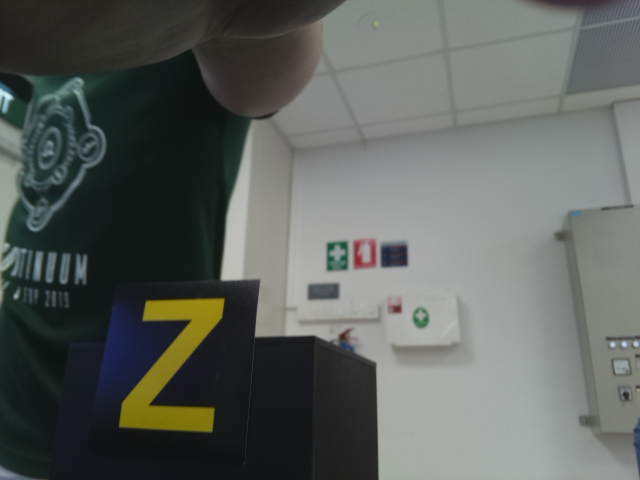z: (107, 298, 232, 431)
